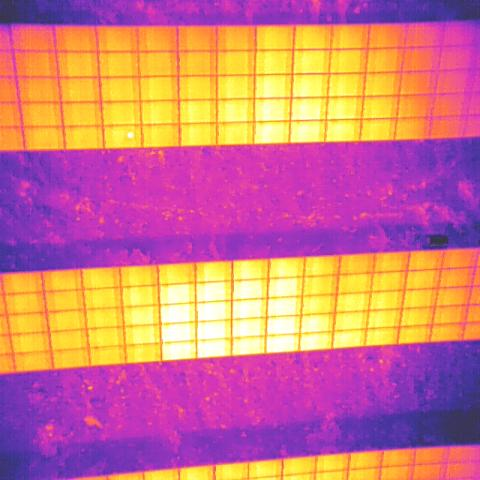fault: (124, 129, 136, 142)
